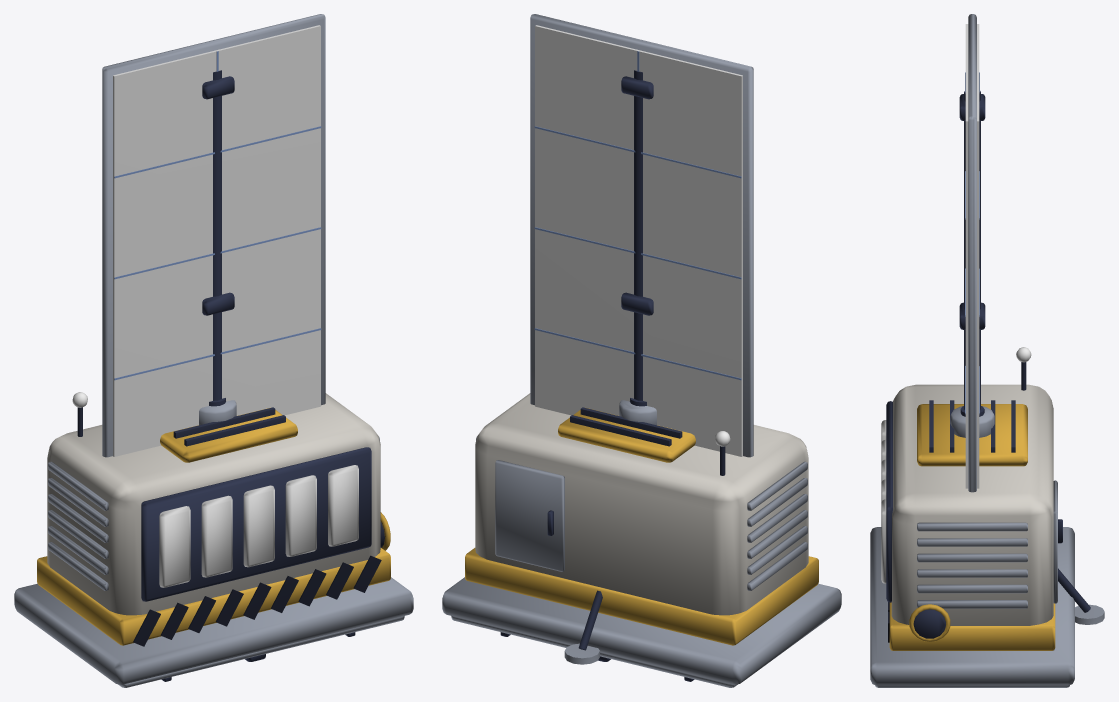
Rendered from power.glb.
3 views of the same model, side by side, from view 1: azimuth 30°, elevation 25°; view 2: azimuth 150°, elevation 25°; view 3: azimuth 270°, elevation 25° (orthographic). The views are drawn at different scales.
Parts seen in each view (by area): view 1: mast_head, battery, panel_head, mast_base; view 2: mast_head, battery, mast_base, panel_head; view 3: battery, mast_head, mast_base, panel_head.
Boxes of the visible parts, x1=… form: mast_head: x1=102, y1=14, x2=325, y2=457; battery: x1=14, y1=392, x2=413, y2=684; panel_head: x1=118, y1=616, x2=404, y2=687; mast_base: x1=199, y1=398, x2=236, y2=425; mast_head: x1=530, y1=14, x2=753, y2=457; battery: x1=442, y1=393, x2=841, y2=684; mast_base: x1=564, y1=398, x2=656, y2=664; panel_head: x1=451, y1=616, x2=737, y2=687; battery: x1=870, y1=347, x2=1074, y2=685; mast_head: x1=959, y1=14, x2=985, y2=492; mast_base: x1=950, y1=406, x2=1104, y2=624; panel_head: x1=875, y1=685, x2=1069, y2=687.
Bounding box in the file's own units: 3.9 × 7.45 × 2.75.
